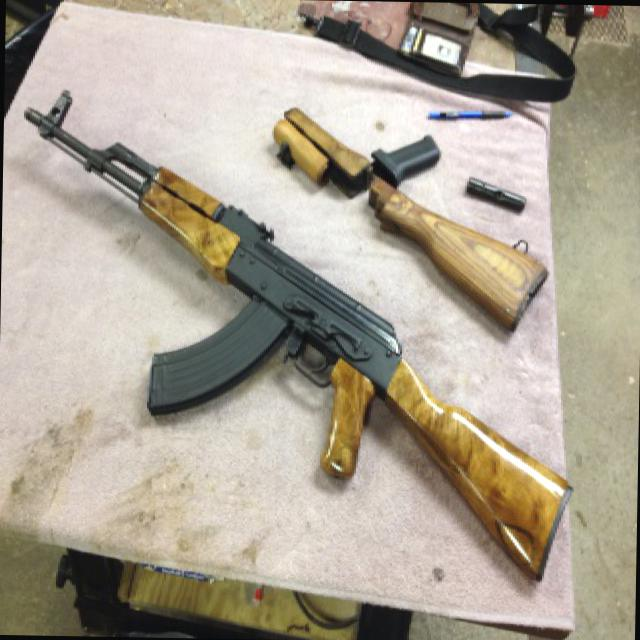long weapon: (8, 89, 582, 586)
